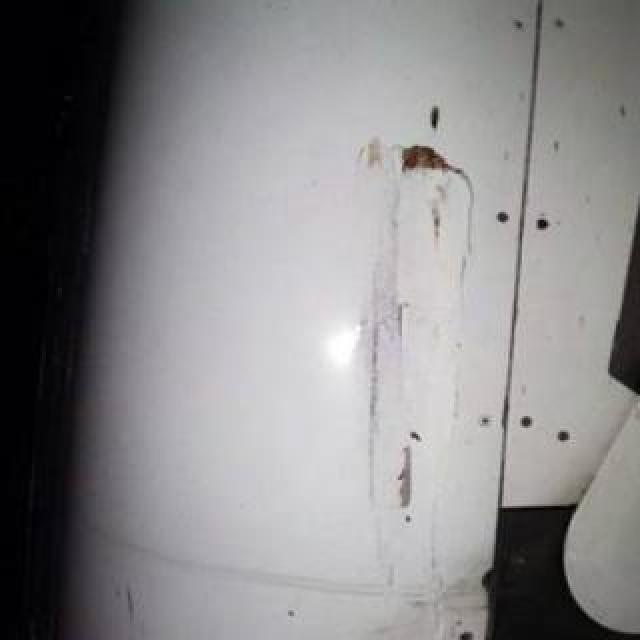crack: (398, 142, 474, 296), (395, 298, 415, 354), (397, 442, 413, 510)
